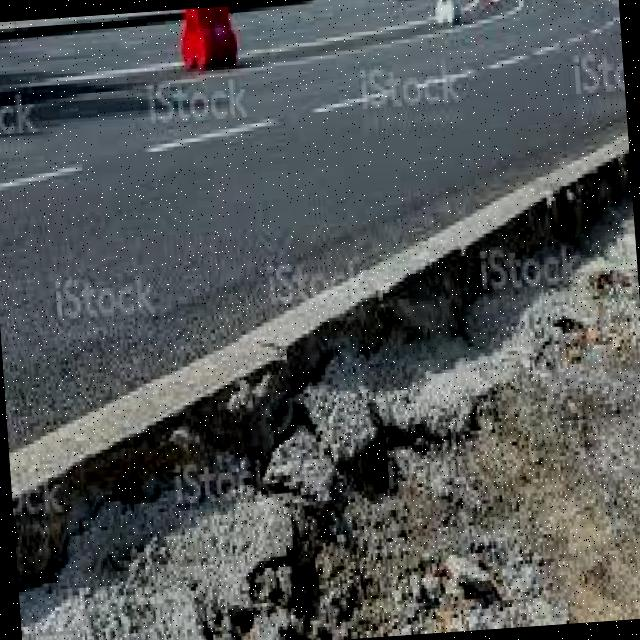curb: (9, 140, 634, 591)
